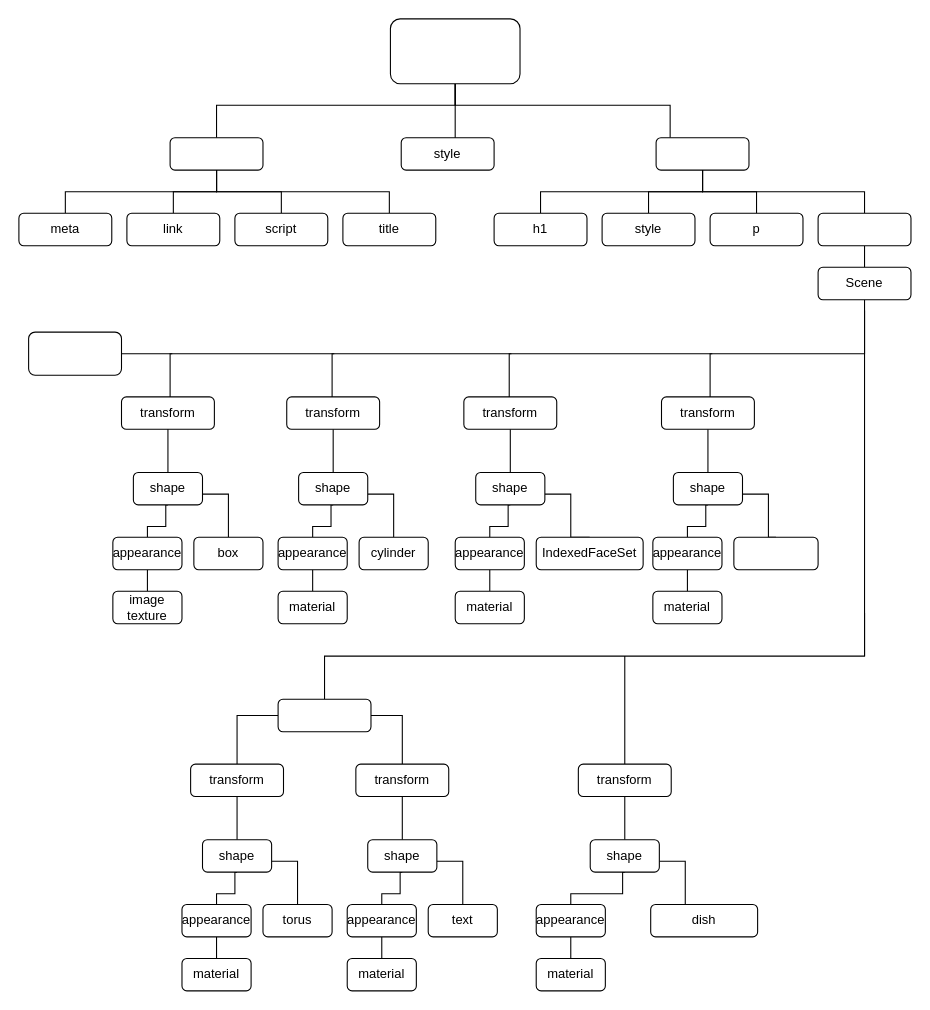
Some shapes in this 930 by 1010 pixel diagram are drawn without their labels. Here are the shapes that lost their labels. From the top down, the box of each, then its label:
(389, 18, 520, 84): HTML
(169, 137, 263, 170): head
(655, 137, 749, 170): body
(817, 212, 911, 246): x3d
(28, 331, 122, 375): Background
(733, 536, 818, 570): ElevationGrid
(277, 698, 371, 732): group
